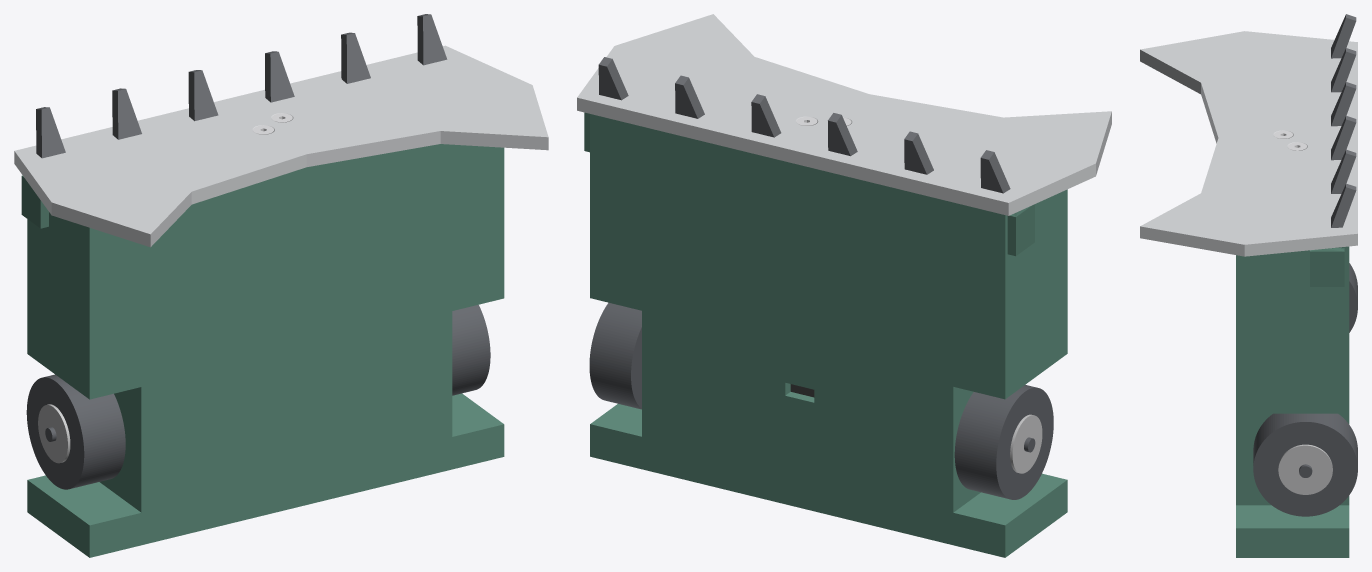
Rendered from corsac.glb.
The picture shows the model from 3 angles, left to right: view 1: azimuth 30°, elevation 25°; view 2: azimuth 150°, elevation 25°; view 3: azimuth 270°, elevation 25°; orthographic projection. The views are drawn at different scales.
Parts seen in each view (by area): view 1: chassis, face, wheel_r0, wheel_l0, dt_hub_wheel_r0, fork_5, fork_1, fork_2, fork_4, fork_0, fork_3, dt_mount_fork_0; view 2: chassis, face, wheel_r0, wheel_l0, dt_hub_wheel_r0, dt_mount_fork_0, fork_3, fork_0, fork_1, fork_4, fork_5, fork_2; view 3: face, chassis, wheel_l0, dt_hub_wheel_l0, dt_mount_fork_5, fork_5, fork_0, fork_1, fork_2, fork_3, fork_4, wheel_r0.
Part boxes in pixels (x1=…): chassis: x1=27, y1=144, x2=504, y2=557; face: x1=14, y1=45, x2=548, y2=247; wheel_r0: x1=26, y1=374, x2=125, y2=489; wheel_l0: x1=452, y1=305, x2=490, y2=395; dt_hub_wheel_r0: x1=38, y1=404, x2=70, y2=463; fork_5: x1=417, y1=14, x2=447, y2=65; fork_1: x1=112, y1=88, x2=141, y2=139; fork_2: x1=188, y1=70, x2=218, y2=121; fork_4: x1=341, y1=32, x2=370, y2=83; fork_0: x1=36, y1=107, x2=65, y2=158; fork_3: x1=265, y1=51, x2=294, y2=102; dt_mount_fork_0: x1=21, y1=175, x2=48, y2=228; chassis: x1=590, y1=114, x2=1067, y2=557; face: x1=577, y1=14, x2=1111, y2=215; wheel_r0: x1=954, y1=385, x2=1053, y2=499; wheel_l0: x1=589, y1=302, x2=641, y2=409; dt_hub_wheel_r0: x1=1010, y1=414, x2=1042, y2=473; dt_mount_fork_0: x1=1007, y1=204, x2=1034, y2=256; fork_3: x1=751, y1=94, x2=781, y2=137; fork_0: x1=980, y1=150, x2=1010, y2=193; fork_1: x1=904, y1=131, x2=933, y2=174; fork_4: x1=675, y1=75, x2=704, y2=118; fork_5: x1=598, y1=57, x2=628, y2=100; fork_2: x1=828, y1=113, x2=857, y2=156; face: x1=1140, y1=31, x2=1357, y2=256; chassis: x1=1236, y1=246, x2=1349, y2=557; wheel_l0: x1=1253, y1=413, x2=1357, y2=516; dt_hub_wheel_l0: x1=1278, y1=444, x2=1332, y2=494; dt_mount_fork_5: x1=1310, y1=248, x2=1344, y2=286; fork_5: x1=1331, y1=183, x2=1356, y2=227; fork_0: x1=1331, y1=14, x2=1356, y2=58; fork_1: x1=1331, y1=48, x2=1356, y2=92; fork_2: x1=1331, y1=82, x2=1356, y2=126; fork_3: x1=1331, y1=115, x2=1356, y2=160; fork_4: x1=1331, y1=149, x2=1356, y2=193; wheel_r0: x1=1349, y1=263, x2=1357, y2=332.
Size of the model in its own units: 116 by 92.46 by 50.
